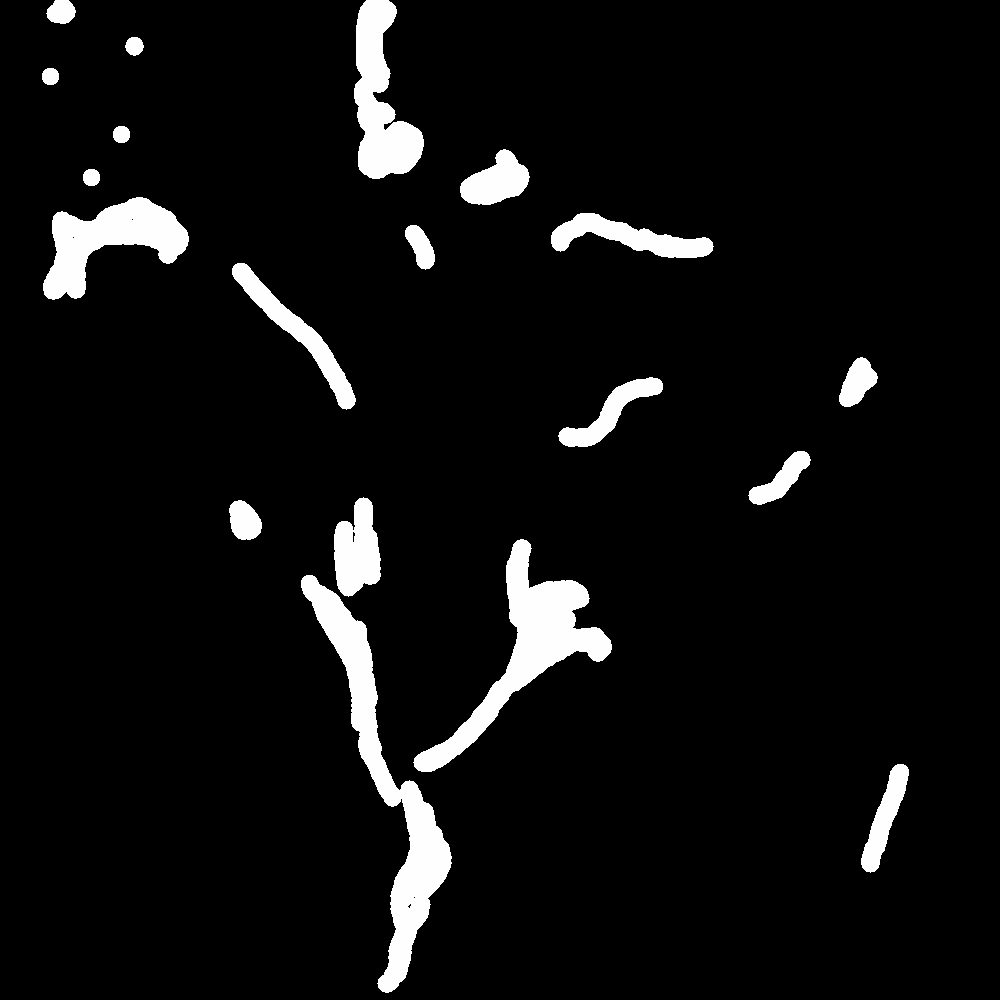illegal: (419, 555, 627, 772), (551, 313, 753, 451), (316, 498, 401, 766), (231, 268, 358, 408), (334, 1, 427, 180), (41, 193, 211, 289), (375, 820, 465, 991), (546, 200, 721, 272), (457, 85, 536, 206), (49, 1, 148, 59), (829, 348, 887, 420), (751, 449, 821, 504), (7, 69, 62, 124), (817, 740, 849, 765)
